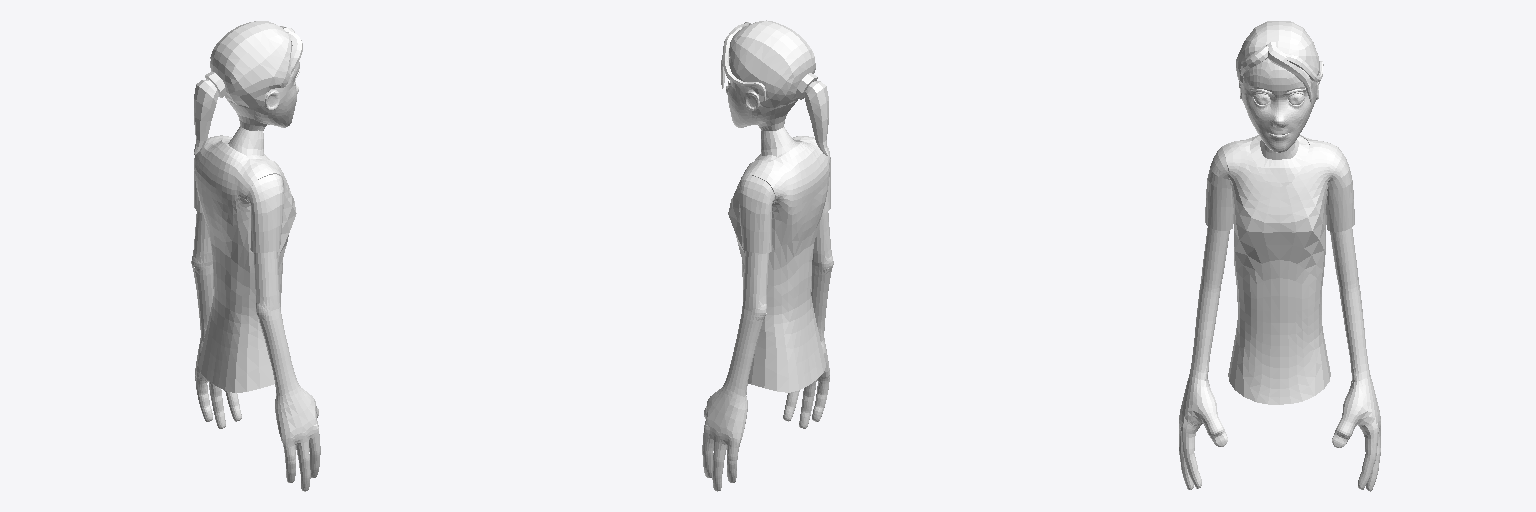
The robot description file, URDF, robot "human_torso":
<?xml version="1.0" ?>
<!-- =================================================================================== -->
<!-- |    This document was autogenerated by xacro from human_torso.xacro              | -->
<!-- |    EDITING THIS FILE BY HAND IS NOT RECOMMENDED                                 | -->
<!-- =================================================================================== -->
<!--
Parameters:
- offsets
    - neck to shoulder
    - shoulder to elbow
    - elbow to wrist

- joint limits (source: https://design.tutsplus.com/articles/human-anatomy-fundamentals-flexibility-and-joint-limitations-vector-25401)
    - shoulder
        - abduction 180
        - adduction -45
        - horizontal flexion 130
        - horizontal extension -45
        - vertical flexion 180
        - vertical extension -60
    - elbow
        - flexion -150
        - extension 0
        - supination 180
        - pronation -90

    - wrist
        - extension 70
        - flexion 90
        - radial 20
        - ulnar 50

 - generation command: rosrun xacro xacro human_torso.xacro > model.urdf
-->
<robot name="human_torso">
  <material name="white">
    <color rgba="1.0 1.0 1.0 1.0"/>
  </material>
  <link name="base_link">
    <inertial>
      <mass value="0.01"/>
      <origin rpy="0 0 0" xyz="0 0 0"/>
      <inertia ixx="0.001" ixy="0" ixz="0" iyy="0.001" iyz="0" izz="0.001"/>
    </inertial>
  </link>
  <!--    Left/right translation-->
  <link name="torso_sagital_link">
    <inertial>
      <mass value="0.01"/>
      <origin rpy="0 0 0" xyz="0 0 0"/>
      <inertia ixx="0.001" ixy="0" ixz="0" iyy="0.001" iyz="0" izz="0.001"/>
    </inertial>
  </link>
  <!--    Forward/backward translation-->
  <link name="torso_frontal_link">
    <inertial>
      <mass value="0.01"/>
      <origin rpy="0 0 0" xyz="0 0 0"/>
      <inertia ixx="0.001" ixy="0" ixz="0" iyy="0.001" iyz="0" izz="0.001"/>
    </inertial>
  </link>
  <!--    Left/Right rotation-->
  <link name="torso_pan">
    <inertial>
      <mass value="0.01"/>
      <origin rpy="0 0 0" xyz="0 0 0"/>
      <inertia ixx="0.001" ixy="0" ixz="0" iyy="0.001" iyz="0" izz="0.001"/>
    </inertial>
  </link>
  <!--    Forward/backward leaning-->
  <link name="torso">
    <visual>
      <geometry>
        <mesh filename=".//torso.obj"/>
      </geometry>
      <origin rpy="0 0 0" xyz="0 0 0"/>
      <material name="white"/>
    </visual>
    <collision>
      <geometry>
        <box size="0.2 0.22 0.59"/>
      </geometry>
      <origin rpy="0 0 0" xyz="0 0 0.295"/>
    </collision>
    <inertial>
      <mass value="40.0"/>
      <origin rpy="0 0 0" xyz="0 0 0"/>
      <inertia ixx="4.0" ixy="0" ixz="0" iyy="4.0" iyz="0" izz="4.0"/>
    </inertial>
  </link>
  <joint name="torso_tilt_joint" type="revolute">
    <axis xyz="0 1 0"/>
    <limit effort="10000.0" lower="-0.05" upper="0.2" velocity="0.5"/>
    <origin rpy="0 0 0" xyz="0 0 0"/>
    <parent link="torso_pan"/>
    <child link="torso"/>
  </joint>
  <joint name="torso_pan_joint" type="revolute">
    <axis xyz="0 0 1"/>
    <limit effort="10000.0" lower="-0.2" upper="0.2" velocity="0.5"/>
    <origin rpy="0 0 0" xyz="0 0 0"/>
    <parent link="torso_sagital_link"/>
    <child link="torso_pan"/>
  </joint>
  <joint name="torso_sagital_joint" type="prismatic">
    <axis xyz="0 1 0"/>
    <limit effort="10000.0" lower="-0.2" upper="0.2" velocity="0.1"/>
    <origin rpy="0 0 0" xyz="0 0 0"/>
    <parent link="torso_frontal_link"/>
    <child link="torso_sagital_link"/>
  </joint>
  <joint name="torso_frontal_joint" type="prismatic">
    <axis xyz="1 0 0"/>
    <limit effort="10000.0" lower="-0.1" upper="0.05" velocity="0.1"/>
    <origin rpy="0 0 0" xyz=" 0 0 0"/>
    <parent link="base_link"/>
    <child link="torso_frontal_link"/>
  </joint>
  <link name="l_shoulder_abduction_adduction">
    <inertial>
      <mass value="0.01"/>
      <origin rpy="0 0 0" xyz="0 0 0"/>
      <inertia ixx="0.001" ixy="0" ixz="0" iyy="0.001" iyz="0" izz="0.001"/>
    </inertial>
  </link>
  <link name="l_shoulder_horizontal_flexion_extension">
    <inertial>
      <mass value="0.01"/>
      <origin rpy="0 0 0" xyz="0 0 0"/>
      <inertia ixx="0.001" ixy="0" ixz="0" iyy="0.001" iyz="0" izz="0.001"/>
    </inertial>
  </link>
  <link name="l_shoulder_vertical_flexion_extension">
    <visual>
      <geometry>
        <mesh filename=".//l_arm.obj"/>
      </geometry>
      <origin rpy="0 0 0" xyz="0 0 0"/>
      <material name="white"/>
    </visual>
    <collision>
      <geometry>
        <box size="0.1 0.07 0.33"/>
      </geometry>
      <origin rpy="0.1 0 0" xyz="0 0.015 -0.135"/>
    </collision>
    <inertial>
      <mass value="3.5"/>
      <origin rpy="0 0 0" xyz="0 0 0"/>
      <inertia ixx="0.3" ixy="0" ixz="0" iyy="0.3" iyz="0" izz="0.3"/>
    </inertial>
  </link>
  <link name="l_elbow_flexion_extension">
    <inertial>
      <mass value="0.01"/>
      <origin rpy="0 0 0" xyz="0 0 0"/>
      <inertia ixx="0.001" ixy="0" ixz="0" iyy="0.001" iyz="0" izz="0.001"/>
    </inertial>
  </link>
  <link name="l_elbow_pronation_supination">
    <visual>
      <geometry>
        <mesh filename=".//l_forearm.obj"/>
      </geometry>
      <origin rpy="0 0 0" xyz="0 0 0"/>
      <material name="white"/>
    </visual>
    <collision>
      <geometry>
        <box size="0.07 0.07 0.2"/>
      </geometry>
      <origin rpy="0.2 -0.2 0" xyz="0.02 0.015 -0.1"/>
    </collision>
    <inertial>
      <mass value="2.5"/>
      <origin rpy="0 0 0" xyz="0 0 0"/>
      <inertia ixx="0.2" ixy="0" ixz="0" iyy="0.2" iyz="0" izz="0.2"/>
    </inertial>
  </link>
  <link name="l_wrist_flexion_extension">
    <inertial>
      <mass value="0.01"/>
      <origin rpy="0 0 0" xyz="0 0 0"/>
      <inertia ixx="0.001" ixy="0" ixz="0" iyy="0.001" iyz="0" izz="0.001"/>
    </inertial>
  </link>
  <link name="l_wrist_radial_ulnar">
    <visual>
      <geometry>
        <mesh filename=".//l_hand.obj"/>
      </geometry>
      <origin rpy="0 0 0" xyz="0 0 0"/>
      <material name="white"/>
    </visual>
    <collision>
      <geometry>
        <mesh filename=".//l_hand.obj"/>
        <!--<box size="${palm_width} ${palm_depth} ${palm_height}"/>-->
      </geometry>
      <!--origin xyz="0.025 ${reflect*0.0} ${-palm_height/2 + 0.02}" rpy="0 0 0"/-->
      <origin rpy="0 0 0" xyz="0 0 0"/>
    </collision>
    <inertial>
      <mass value="1.5"/>
      <origin rpy="0 0 0" xyz="0 0 0"/>
      <inertia ixx="0.1" ixy="0" ixz="0" iyy="0.1" iyz="0" izz="0.1"/>
    </inertial>
  </link>
  <joint name="l_shoulder_abduction_adduction_joint" type="revolute">
    <axis xyz="1 0 0"/>
    <limit effort="1000.0" lower="0.0" upper="3.1415" velocity="2.5"/>
    <origin rpy="0 0 0" xyz=" 0 0.10988 0.4938"/>
    <parent link="torso"/>
    <child link="l_shoulder_abduction_adduction"/>
  </joint>
  <joint name="l_shoulder_horizontal_flexion_extension_joint" type="revolute">
    <axis xyz="0 0 -1"/>
    <limit effort="1000.0" lower="-0.78539" upper="2.26892" velocity="2.5"/>
    <origin rpy="0 0 0" xyz="0 0 0"/>
    <parent link="l_shoulder_abduction_adduction"/>
    <child link="l_shoulder_horizontal_flexion_extension"/>
  </joint>
  <joint name="l_shoulder_vertical_flexion_extension_joint" type="revolute">
    <axis xyz="0 -1 0"/>
    <limit effort="1000.0" lower="-1.04719" upper="3.1415" velocity="2.5"/>
    <origin rpy="0 0 0" xyz="0 0 0"/>
    <parent link="l_shoulder_horizontal_flexion_extension"/>
    <child link="l_shoulder_vertical_flexion_extension"/>
  </joint>
  <joint name="l_elbow_flexion_extension_joint" type="revolute">
    <axis xyz="0 1 0"/>
    <limit effort="1000.0" lower="-2.61799" upper="0" velocity="2.5"/>
    <origin rpy="0 0 0" xyz="-0.01223 0.03506 -0.283379"/>
    <parent link="l_shoulder_vertical_flexion_extension"/>
    <child link="l_elbow_flexion_extension"/>
  </joint>
  <joint name="l_elbow_pronation_supination_joint" type="revolute">
    <axis xyz="0 0 -1"/>
    <limit effort="1000.0" lower="-3.1415" upper="1.57079" velocity="2.5"/>
    <origin rpy="0 0 0" xyz="0 0 0"/>
    <parent link="l_elbow_flexion_extension"/>
    <child link="l_elbow_pronation_supination"/>
  </joint>
  <joint name="l_wrist_flexion_extension_joint" type="revolute">
    <axis xyz="0 -1 0"/>
    <limit effort="1000.0" lower="-1.57079" upper="1.22173" velocity="2.5"/>
    <origin rpy="0 0 0" xyz="0.03606 0.02363 -0.19094"/>
    <parent link="l_elbow_pronation_supination"/>
    <child link="l_wrist_flexion_extension"/>
  </joint>
  <joint name="l_wrist_radial_ulnar_joint" type="revolute">
    <axis xyz="1 0 0"/>
    <limit effort="1000.0" lower="-0.34906" upper="0.87266" velocity="2.5"/>
    <origin rpy="0 0 0" xyz="0 0 0"/>
    <parent link="l_wrist_flexion_extension"/>
    <child link="l_wrist_radial_ulnar"/>
  </joint>
  <link name="l_tip">
    <visual>
      <geometry>
        <box size="0.001 0.01 0.001"/>
      </geometry>
      <origin rpy="0 0 0" xyz="0 0 0"/>
      <material name="white"/>
    </visual>
    <collision>
      <geometry>
        <box size="0.001 0.01 0.001"/>
      </geometry>
      <origin rpy="0 0 0" xyz="0 0 0"/>
    </collision>
    <inertial>
      <mass value="0.001"/>
      <origin rpy="0 0 0" xyz="0 0 0"/>
      <inertia ixx="0.0001" ixy="0" ixz="0" iyy="0.0001" iyz="0" izz="0.0001"/>
    </inertial>
  </link>
  <joint name="l_tip_joint" type="fixed">
    <origin rpy="0 3.1415 0" xyz="0.03 0.015 -0.23"/>
    <parent link="l_wrist_radial_ulnar"/>
    <child link="l_tip"/>
  </joint>
  <link name="r_shoulder_abduction_adduction">
    <inertial>
      <mass value="0.01"/>
      <origin rpy="0 0 0" xyz="0 0 0"/>
      <inertia ixx="0.001" ixy="0" ixz="0" iyy="0.001" iyz="0" izz="0.001"/>
    </inertial>
  </link>
  <link name="r_shoulder_horizontal_flexion_extension">
    <inertial>
      <mass value="0.01"/>
      <origin rpy="0 0 0" xyz="0 0 0"/>
      <inertia ixx="0.001" ixy="0" ixz="0" iyy="0.001" iyz="0" izz="0.001"/>
    </inertial>
  </link>
  <link name="r_shoulder_vertical_flexion_extension">
    <visual>
      <geometry>
        <mesh filename=".//r_arm.obj"/>
      </geometry>
      <origin rpy="0 0 0" xyz="0 0 0"/>
      <material name="white"/>
    </visual>
    <collision>
      <geometry>
        <box size="0.1 0.07 0.33"/>
      </geometry>
      <origin rpy="-0.1 0 0" xyz="0 -0.015 -0.135"/>
    </collision>
    <inertial>
      <mass value="3.5"/>
      <origin rpy="0 0 0" xyz="0 0 0"/>
      <inertia ixx="0.3" ixy="0" ixz="0" iyy="0.3" iyz="0" izz="0.3"/>
    </inertial>
  </link>
  <link name="r_elbow_flexion_extension">
    <inertial>
      <mass value="0.01"/>
      <origin rpy="0 0 0" xyz="0 0 0"/>
      <inertia ixx="0.001" ixy="0" ixz="0" iyy="0.001" iyz="0" izz="0.001"/>
    </inertial>
  </link>
  <link name="r_elbow_pronation_supination">
    <visual>
      <geometry>
        <mesh filename=".//r_forearm.obj"/>
      </geometry>
      <origin rpy="0 0 0" xyz="0 0 0"/>
      <material name="white"/>
    </visual>
    <collision>
      <geometry>
        <box size="0.07 0.07 0.2"/>
      </geometry>
      <origin rpy="-0.2 -0.2 0" xyz="0.02 -0.015 -0.1"/>
    </collision>
    <inertial>
      <mass value="2.5"/>
      <origin rpy="0 0 0" xyz="0 0 0"/>
      <inertia ixx="0.2" ixy="0" ixz="0" iyy="0.2" iyz="0" izz="0.2"/>
    </inertial>
  </link>
  <link name="r_wrist_flexion_extension">
    <inertial>
      <mass value="0.01"/>
      <origin rpy="0 0 0" xyz="0 0 0"/>
      <inertia ixx="0.001" ixy="0" ixz="0" iyy="0.001" iyz="0" izz="0.001"/>
    </inertial>
  </link>
  <link name="r_wrist_radial_ulnar">
    <visual>
      <geometry>
        <mesh filename=".//r_hand.obj"/>
      </geometry>
      <origin rpy="0 0 0" xyz="0 0 0"/>
      <material name="white"/>
    </visual>
    <collision>
      <geometry>
        <mesh filename=".//r_hand.obj"/>
        <!--<box size="${palm_width} ${palm_depth} ${palm_height}"/>-->
      </geometry>
      <!--origin xyz="0.025 ${reflect*0.0} ${-palm_height/2 + 0.02}" rpy="0 0 0"/-->
      <origin rpy="0 0 0" xyz="0 0 0"/>
    </collision>
    <inertial>
      <mass value="1.5"/>
      <origin rpy="0 0 0" xyz="0 0 0"/>
      <inertia ixx="0.1" ixy="0" ixz="0" iyy="0.1" iyz="0" izz="0.1"/>
    </inertial>
  </link>
  <joint name="r_shoulder_abduction_adduction_joint" type="fixed">
    <axis xyz="-1 0 0"/>
    <limit effort="1000.0" lower="0.0" upper="3.1415" velocity="2.5"/>
    <origin rpy="0 0 0" xyz=" -0.00304 -0.10786 0.49489"/>
    <parent link="torso"/>
    <child link="r_shoulder_abduction_adduction"/>
  </joint>
  <joint name="r_shoulder_horizontal_flexion_extension_joint" type="fixed">
    <axis xyz="0 0 1"/>
    <limit effort="1000.0" lower="-0.78539" upper="2.26892" velocity="2.5"/>
    <origin rpy="0 0 0" xyz="0 0 0"/>
    <parent link="r_shoulder_abduction_adduction"/>
    <child link="r_shoulder_horizontal_flexion_extension"/>
  </joint>
  <joint name="r_shoulder_vertical_flexion_extension_joint" type="fixed">
    <axis xyz="0 -1 0"/>
    <limit effort="1000.0" lower="-1.04719" upper="3.1415" velocity="2.5"/>
    <origin rpy="0 0 0" xyz="0 0 0"/>
    <parent link="r_shoulder_horizontal_flexion_extension"/>
    <child link="r_shoulder_vertical_flexion_extension"/>
  </joint>
  <joint name="r_elbow_flexion_extension_joint" type="fixed">
    <axis xyz="0 1 0"/>
    <limit effort="1000.0" lower="-2.61799" upper="0" velocity="2.5"/>
    <origin rpy="0 0 0" xyz="-0.01223 -0.03506 -0.283379"/>
    <parent link="r_shoulder_vertical_flexion_extension"/>
    <child link="r_elbow_flexion_extension"/>
  </joint>
  <joint name="r_elbow_pronation_supination_joint" type="fixed">
    <axis xyz="0 0 -1"/>
    <limit effort="1000.0" lower="-3.1415" upper="1.57079" velocity="2.5"/>
    <origin rpy="0 0 0" xyz="0 0 0"/>
    <parent link="r_elbow_flexion_extension"/>
    <child link="r_elbow_pronation_supination"/>
  </joint>
  <joint name="r_wrist_flexion_extension_joint" type="fixed">
    <axis xyz="0 -1 0"/>
    <limit effort="1000.0" lower="-1.57079" upper="1.22173" velocity="2.5"/>
    <origin rpy="0 0 0" xyz="0.03606 -0.02363 -0.19094"/>
    <parent link="r_elbow_pronation_supination"/>
    <child link="r_wrist_flexion_extension"/>
  </joint>
  <joint name="r_wrist_radial_ulnar_joint" type="fixed">
    <axis xyz="-1 0 0"/>
    <limit effort="1000.0" lower="-0.34906" upper="0.87266" velocity="2.5"/>
    <origin rpy="0 0 0" xyz="0 0 0"/>
    <parent link="r_wrist_flexion_extension"/>
    <child link="r_wrist_radial_ulnar"/>
  </joint>
  <link name="r_tip">
    <visual>
      <geometry>
        <box size="0.001 0.01 0.001"/>
      </geometry>
      <origin rpy="0 0 0" xyz="0 0 0"/>
      <material name="white"/>
    </visual>
    <collision>
      <geometry>
        <box size="0.001 0.01 0.001"/>
      </geometry>
      <origin rpy="0 0 0" xyz="0 0 0"/>
    </collision>
    <inertial>
      <mass value="0.001"/>
      <origin rpy="0 0 0" xyz="0 0 0"/>
      <inertia ixx="0.0001" ixy="0" ixz="0" iyy="0.0001" iyz="0" izz="0.0001"/>
    </inertial>
  </link>
  <joint name="r_tip_joint" type="fixed">
    <origin rpy="0 -3.1415 0" xyz="0.03 -0.015 -0.23"/>
    <parent link="r_wrist_radial_ulnar"/>
    <child link="r_tip"/>
  </joint>
  <link name="head_head_roll">
    <visual>
      <geometry>
        <mesh filename=".//head.obj"/>
      </geometry>
      <origin rpy="0 0 0" xyz="0 0 0"/>
      <material name="white"/>
    </visual>
    <collision>
      <geometry>
        <box size="0.32 0.27 0.4"/>
      </geometry>
      <origin rpy="0 0 0" xyz="0.03 0 0.18000000000000002"/>
    </collision>
    <inertial>
      <mass value="5.0"/>
      <origin rpy="0 0 0" xyz="0 0 0"/>
      <inertia ixx="0.5" ixy="0" ixz="0" iyy="0.5" iyz="0" izz="0.5"/>
    </inertial>
  </link>
  <link name="head_head_tilt">
    <inertial>
      <mass value="0.01"/>
      <origin rpy="0 0 0" xyz="0 0 0"/>
      <inertia ixx="0.001" ixy="0" ixz="0" iyy="0.001" iyz="0" izz="0.001"/>
    </inertial>
  </link>
  <link name="head_head_pan">
    <inertial>
      <mass value="0.01"/>
      <origin rpy="0 0 0" xyz="0 0 0"/>
      <inertia ixx="0.001" ixy="0" ixz="0" iyy="0.001" iyz="0" izz="0.001"/>
    </inertial>
  </link>
  <joint name="head_pan_joint" type="fixed">
    <axis xyz="0 0 1"/>
    <limit effort="1000.0" lower="-1.22173" upper="1.22173" velocity="0.5"/>
    <origin rpy="0 0 0" xyz=" 0.0255 0 0.59"/>
    <parent link="torso"/>
    <child link="head_head_pan"/>
  </joint>
  <joint name="head_tilt_joint" type="fixed">
    <axis xyz="0 1 0"/>
    <limit effort="1000.0" lower="-1.57079" upper="0.95993" velocity="0.5"/>
    <origin rpy="0 0 0" xyz="0 0 0"/>
    <parent link="head_head_pan"/>
    <child link="head_head_tilt"/>
  </joint>
  <joint name="head_roll_joint" type="fixed">
    <axis xyz="1 0 0"/>
    <limit effort="1000.0" lower="-0.61086" upper="0.61086" velocity="0.5"/>
    <origin rpy="0 0 0" xyz="0 0 0"/>
    <parent link="head_head_tilt"/>
    <child link="head_head_roll"/>
  </joint>
</robot>

--- Render facts (derived) ---
The picture shows the robot from 3 angles, left to right: view 1: azimuth 30°, elevation 25°; view 2: azimuth 150°, elevation 25°; view 3: azimuth 270°, elevation 25°; orthographic projection.
Robot: human_torso — 24 links, 23 joints (9 revolute, 2 prismatic, 12 fixed); root link base_link; default pose: every joint at zero.
Links seen in each view (by area): view 1: torso, head_head_roll, r_shoulder_vertical_flexion_extension, r_wrist_radial_ulnar, r_elbow_pronation_supination, l_wrist_radial_ulnar, l_shoulder_vertical_flexion_extension, l_elbow_pronation_supination; view 2: torso, head_head_roll, l_shoulder_vertical_flexion_extension, l_wrist_radial_ulnar, l_elbow_pronation_supination, r_wrist_radial_ulnar, r_shoulder_vertical_flexion_extension, r_elbow_pronation_supination; view 3: torso, head_head_roll, l_shoulder_vertical_flexion_extension, r_shoulder_vertical_flexion_extension, l_wrist_radial_ulnar, r_wrist_radial_ulnar, r_elbow_pronation_supination, l_elbow_pronation_supination.
Link boxes in pixels (x1,y1,x2,y2): torso: [194, 126, 296, 392]; head_head_roll: [194, 21, 302, 154]; r_shoulder_vertical_flexion_extension: [247, 174, 283, 316]; r_wrist_radial_ulnar: [275, 386, 320, 491]; r_elbow_pronation_supination: [258, 311, 299, 395]; l_wrist_radial_ulnar: [195, 338, 241, 428]; l_shoulder_vertical_flexion_extension: [191, 139, 230, 270]; l_elbow_pronation_supination: [191, 264, 213, 341]; torso: [728, 127, 830, 392]; head_head_roll: [721, 20, 828, 155]; l_shoulder_vertical_flexion_extension: [739, 175, 774, 316]; l_wrist_radial_ulnar: [702, 386, 747, 491]; l_elbow_pronation_supination: [723, 312, 766, 396]; r_wrist_radial_ulnar: [783, 338, 829, 428]; r_shoulder_vertical_flexion_extension: [794, 140, 833, 270]; r_elbow_pronation_supination: [811, 267, 831, 341]; torso: [1222, 135, 1338, 404]; head_head_roll: [1236, 21, 1323, 152]; l_shoulder_vertical_flexion_extension: [1326, 148, 1359, 293]; r_shoulder_vertical_flexion_extension: [1200, 147, 1233, 292]; l_wrist_radial_ulnar: [1332, 375, 1380, 491]; r_wrist_radial_ulnar: [1179, 374, 1227, 489]; r_elbow_pronation_supination: [1190, 287, 1220, 380]; l_elbow_pronation_supination: [1339, 288, 1369, 382].
Bounding box of the posed robot: 0.2633 × 0.4193 × 1.06 m (x, y, z).
Meshes: 8 distinct files referenced, 8 mesh visuals loaded (8 OBJ).